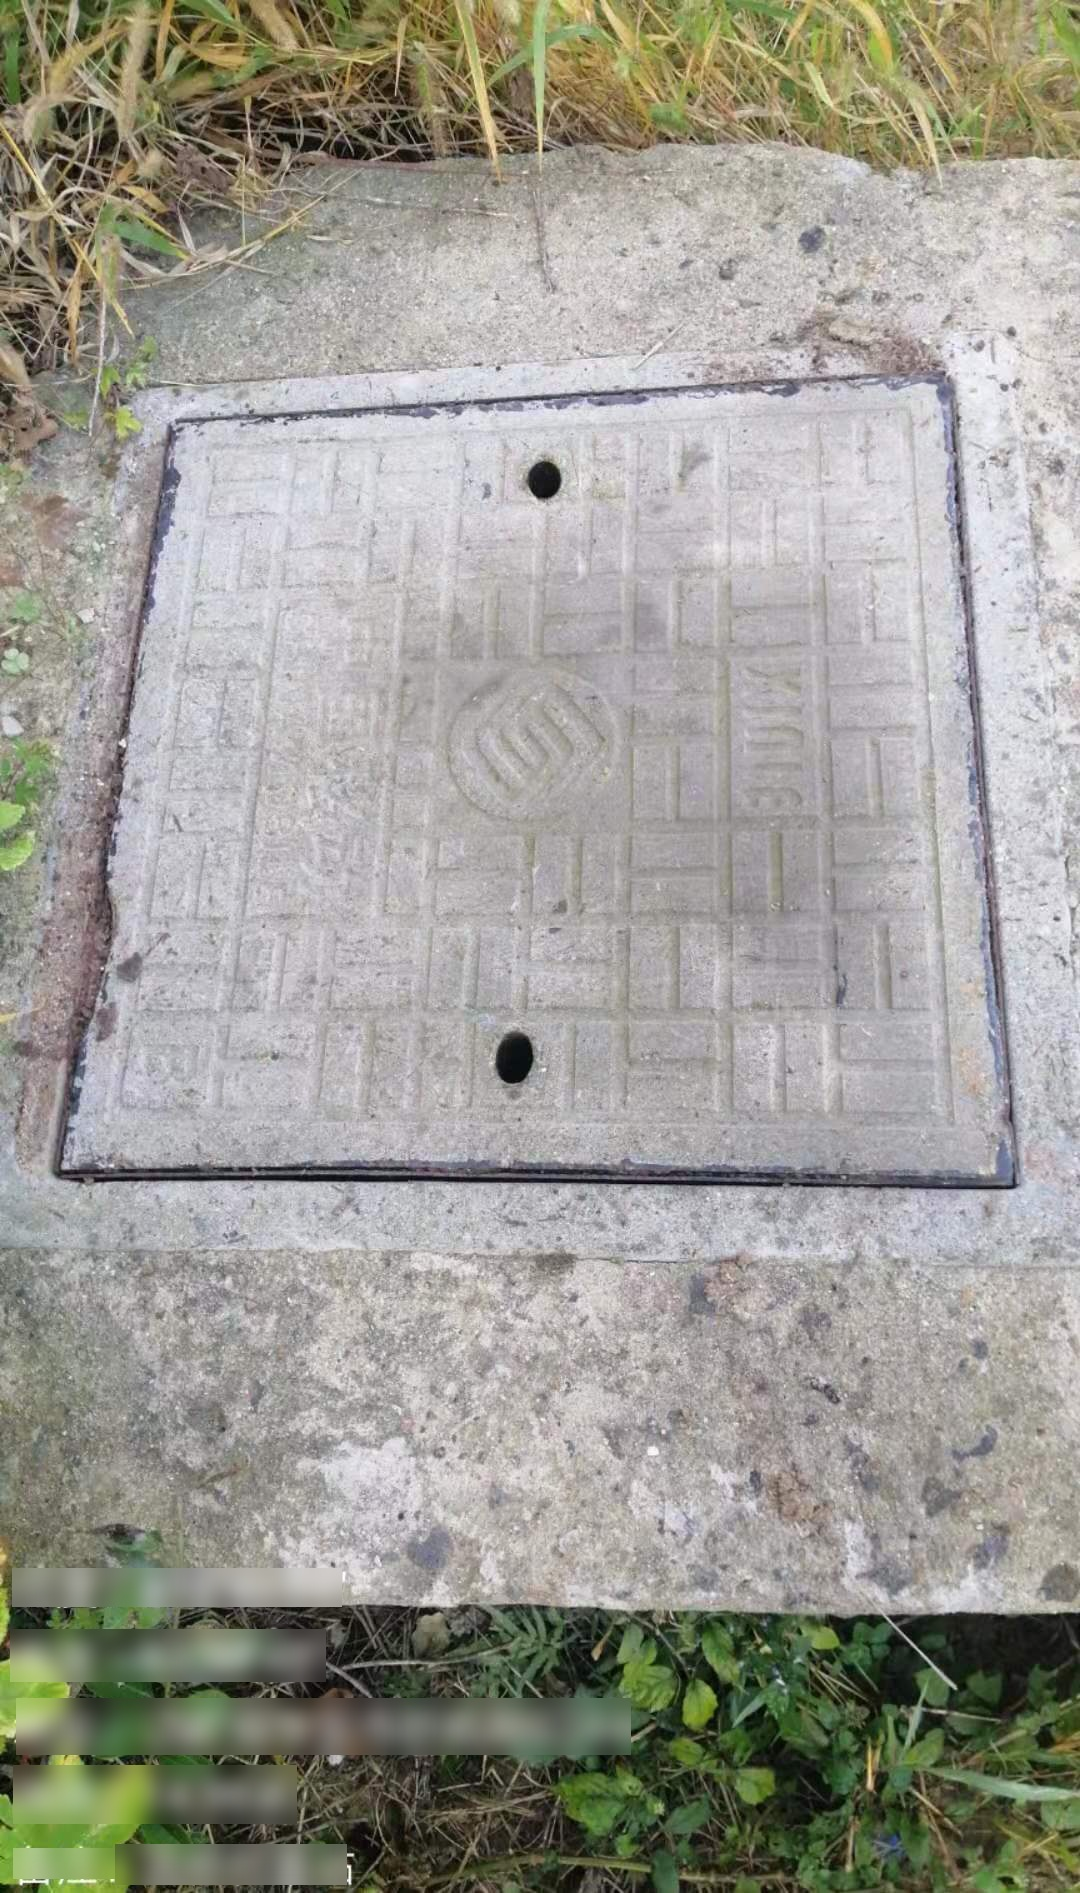good: (8, 346, 1080, 1272)
